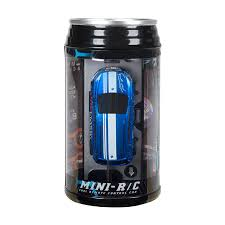can: (64, 17, 161, 207)
